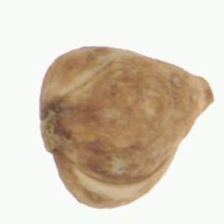L1: (38, 114, 64, 157), (198, 72, 216, 112)
L2: (38, 45, 214, 209)
